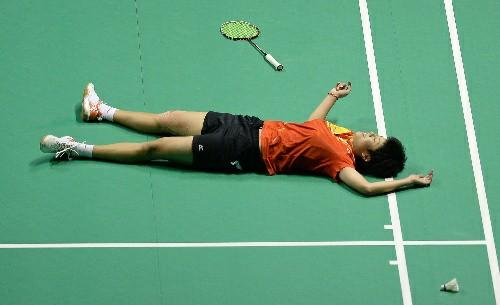FallenBody: (42, 82, 435, 195)
